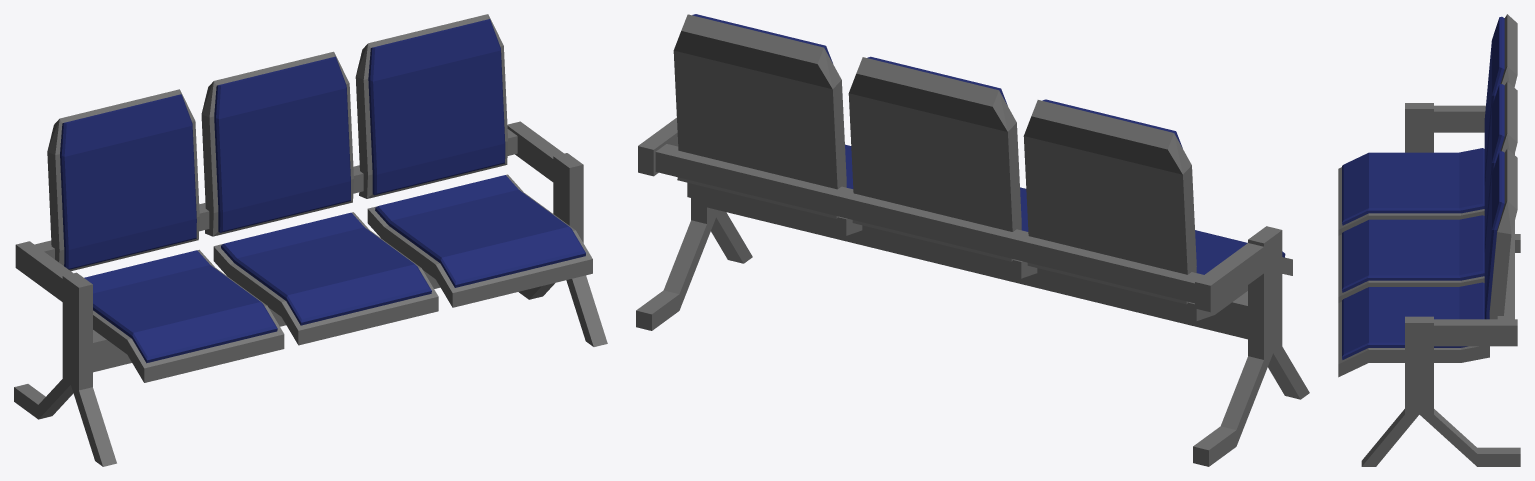
File: bench1.fbx
3 views of the same model, side by side, from view 1: azimuth 30°, elevation 25°; view 2: azimuth 150°, elevation 25°; view 3: azimuth 270°, elevation 25° (orthographic). The views are drawn at different scales.
Parts seen in each view (by area): view 1: Cube; view 2: Cube; view 3: Cube.
Part boxes in pixels (x1,y1,x2,y2): Cube: [14, 14, 607, 466]; Cube: [636, 14, 1309, 466]; Cube: [1338, 14, 1520, 466].
Bounding box in the file's own units: 360 × 190 × 126.
